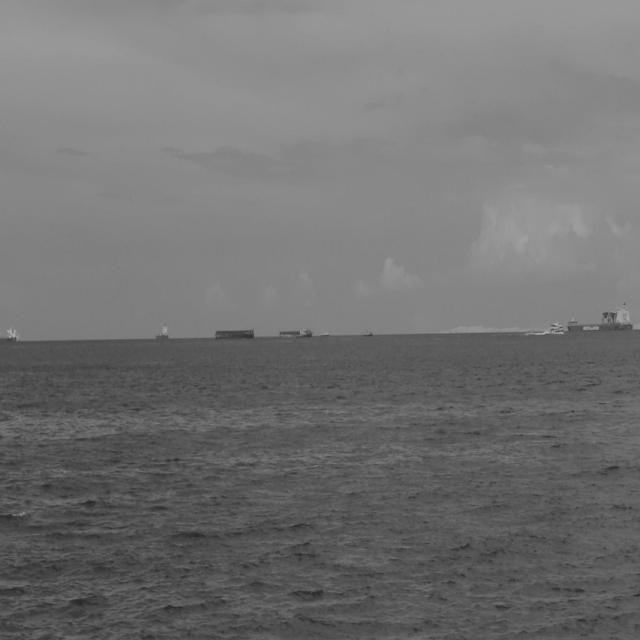ship: (566, 302, 634, 332), (278, 325, 314, 340), (1, 324, 20, 342), (155, 320, 171, 340), (546, 320, 564, 336)
